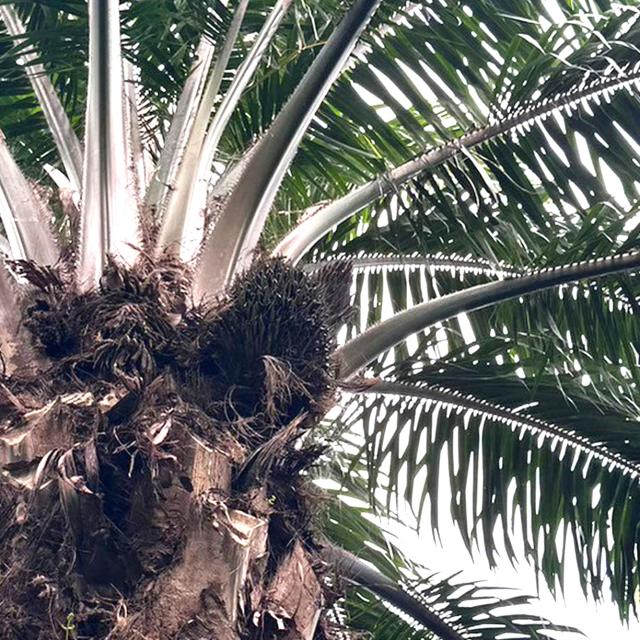unripe: (188, 242, 347, 426)
